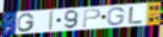9: (63, 9, 80, 30)
G: (106, 6, 126, 26), (17, 12, 36, 32)
I: (48, 10, 55, 32)
L: (128, 6, 145, 25)
P: (82, 8, 102, 29)
